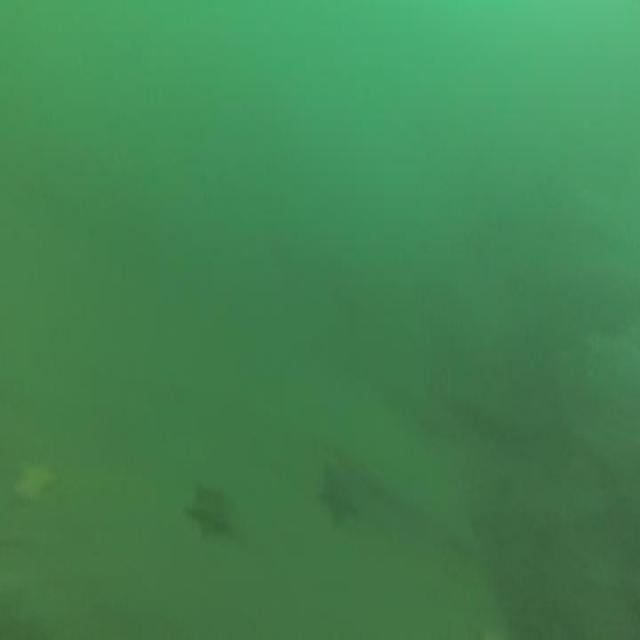starfish: (182, 473, 238, 545), (313, 457, 361, 529), (10, 453, 63, 509)
